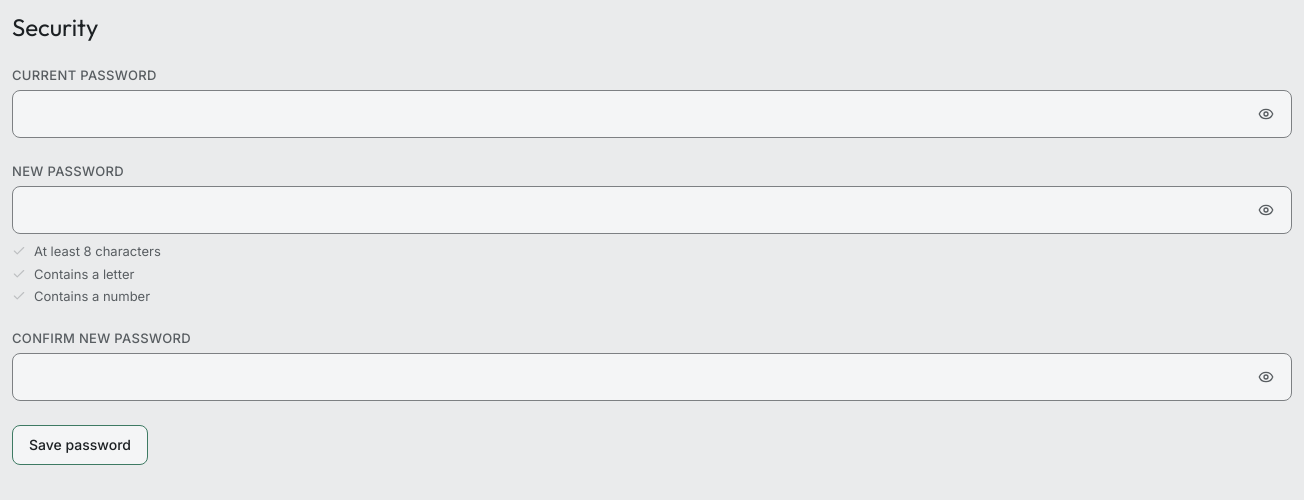
Test: SecuritySection › surfaces the action's wrong-current-password message verbatim
Type "wrong" into the password field labelled "Current password" at (652,114), box top-left (12, 90), bottom-right (1292, 138)
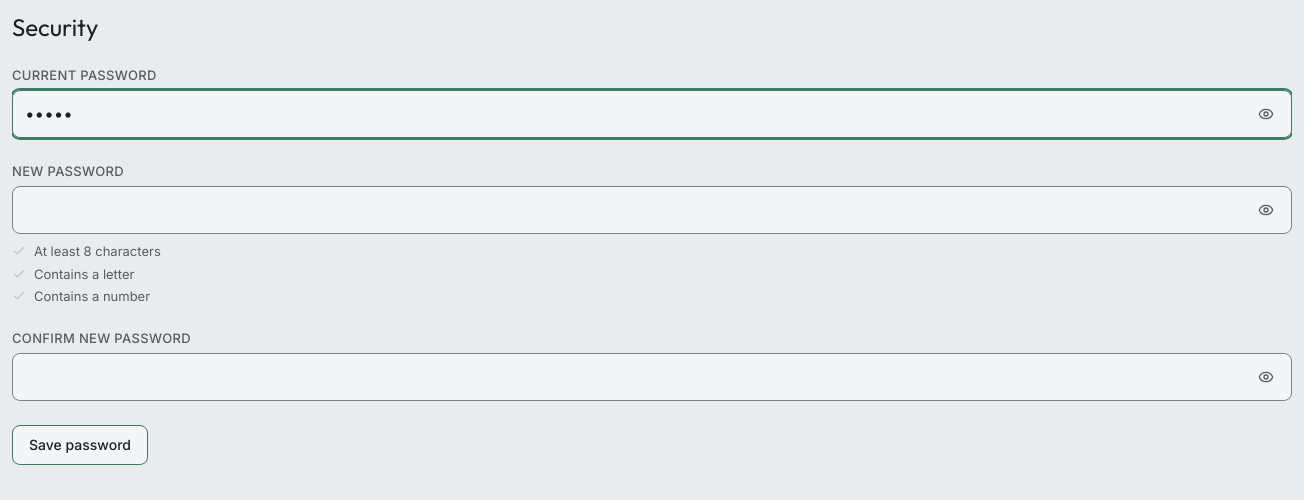
Type "BetterPass123" into the password field labelled "New password" at (652,210), box top-left (12, 186), bottom-right (1292, 234)
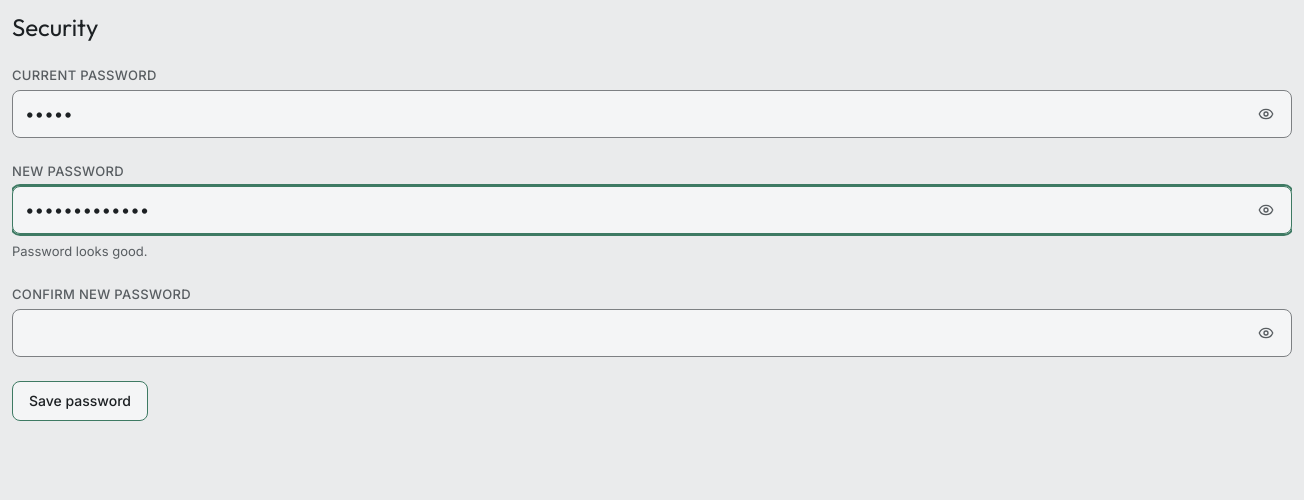
Type "BetterPass123" into the password field labelled "Confirm new password" at (652,333), box top-left (12, 309), bottom-right (1292, 357)
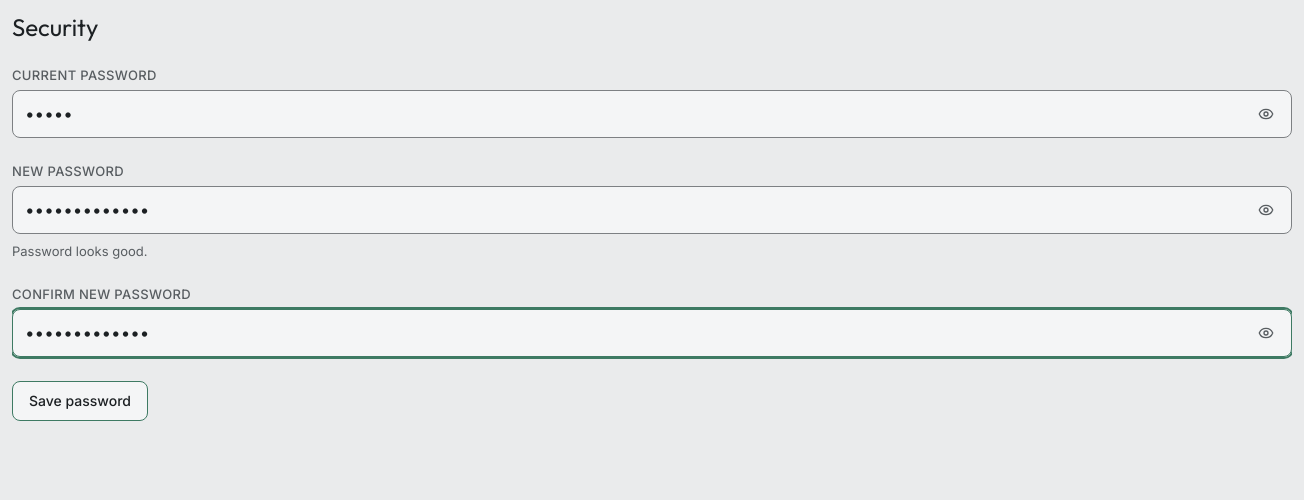
Click the button "Save password" at (80,401), box top-left (12, 381), bottom-right (148, 421)
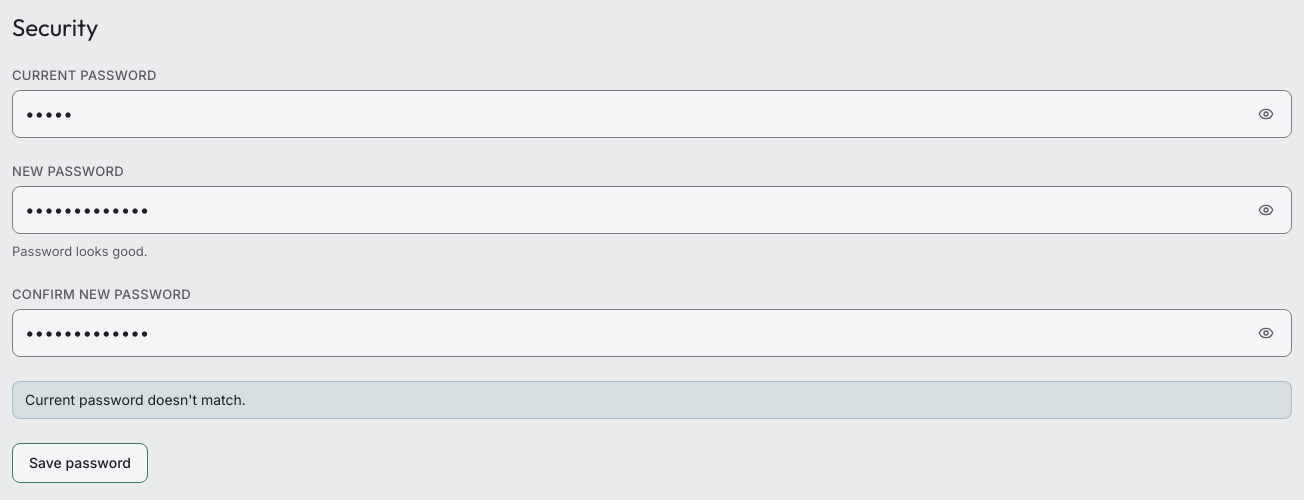
Expected: the message reads "Current password doesn't match.", top-left (25, 391), bottom-right (246, 408)
